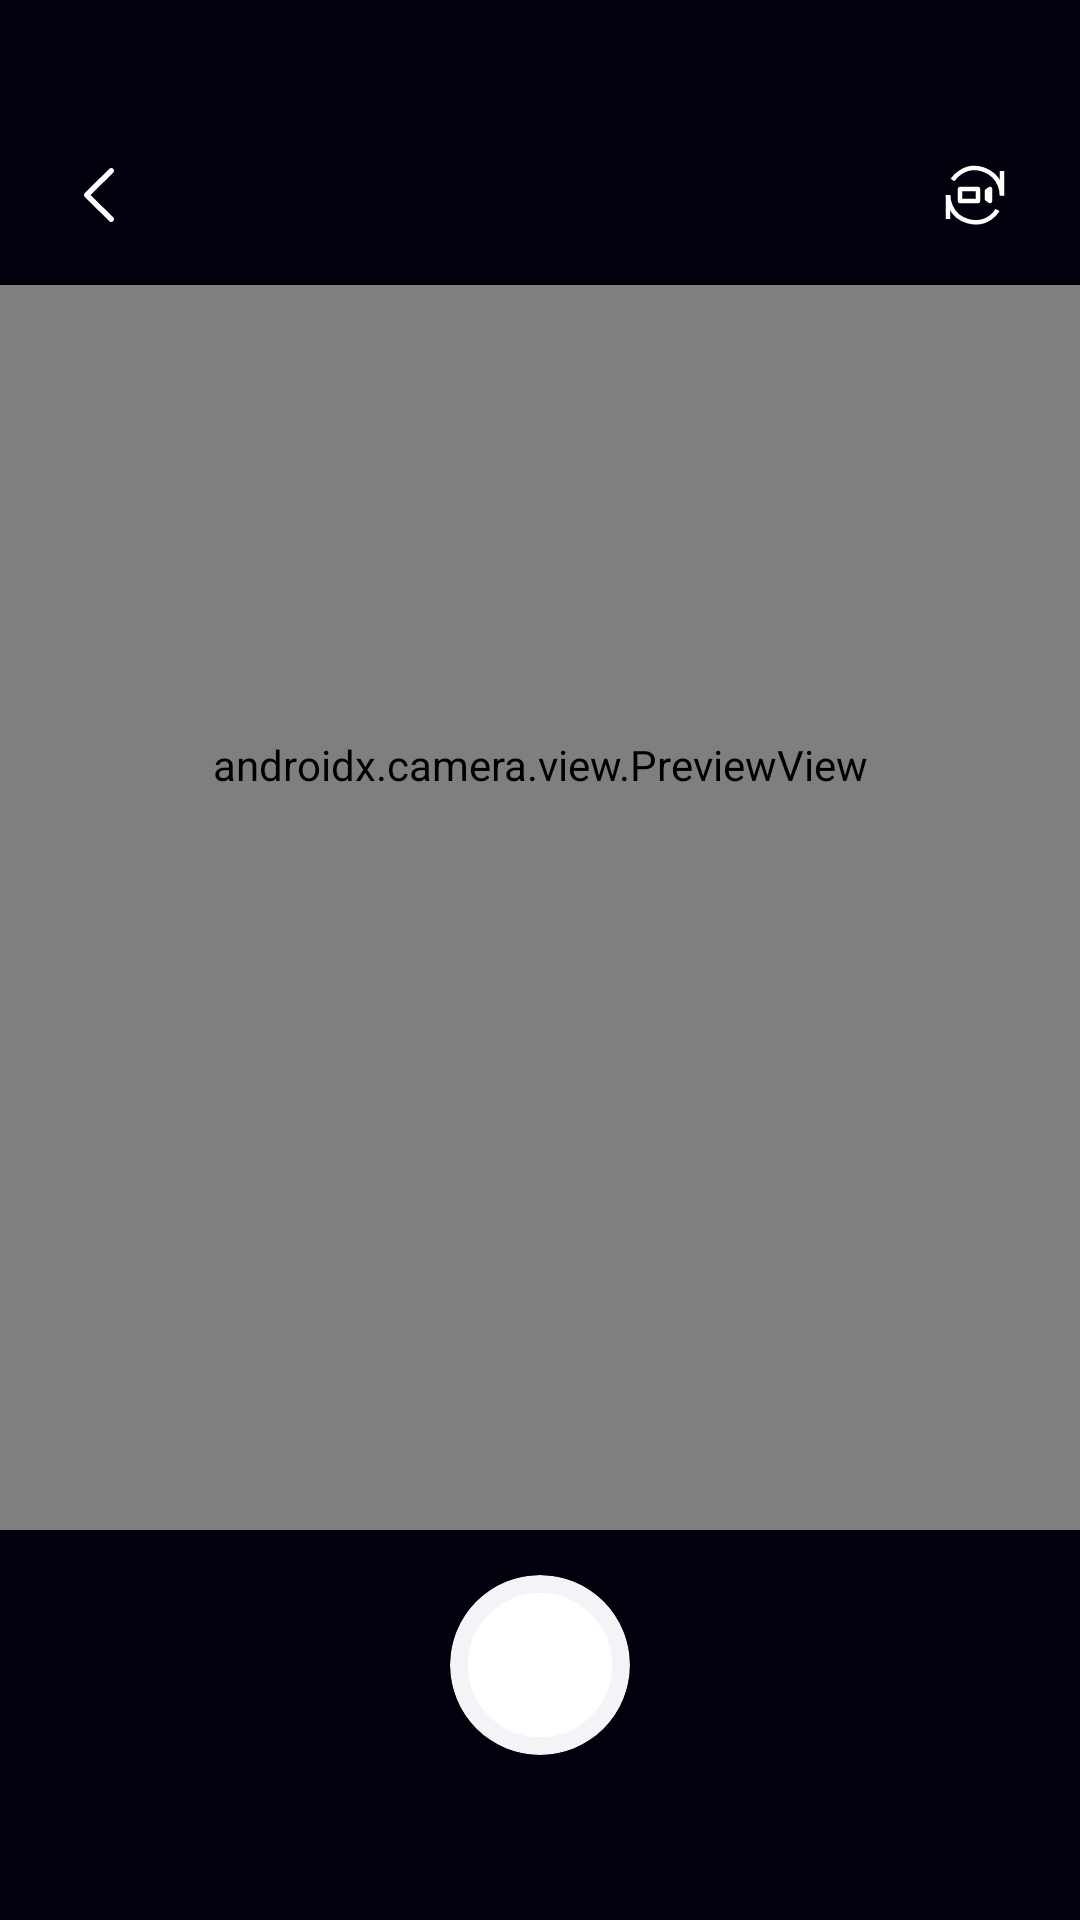

Point at icon controls on the screen. Image size 1080 x 1920, points as (x=x, y=y).
back: (x=99, y=195)
invert camera: (x=975, y=195)
